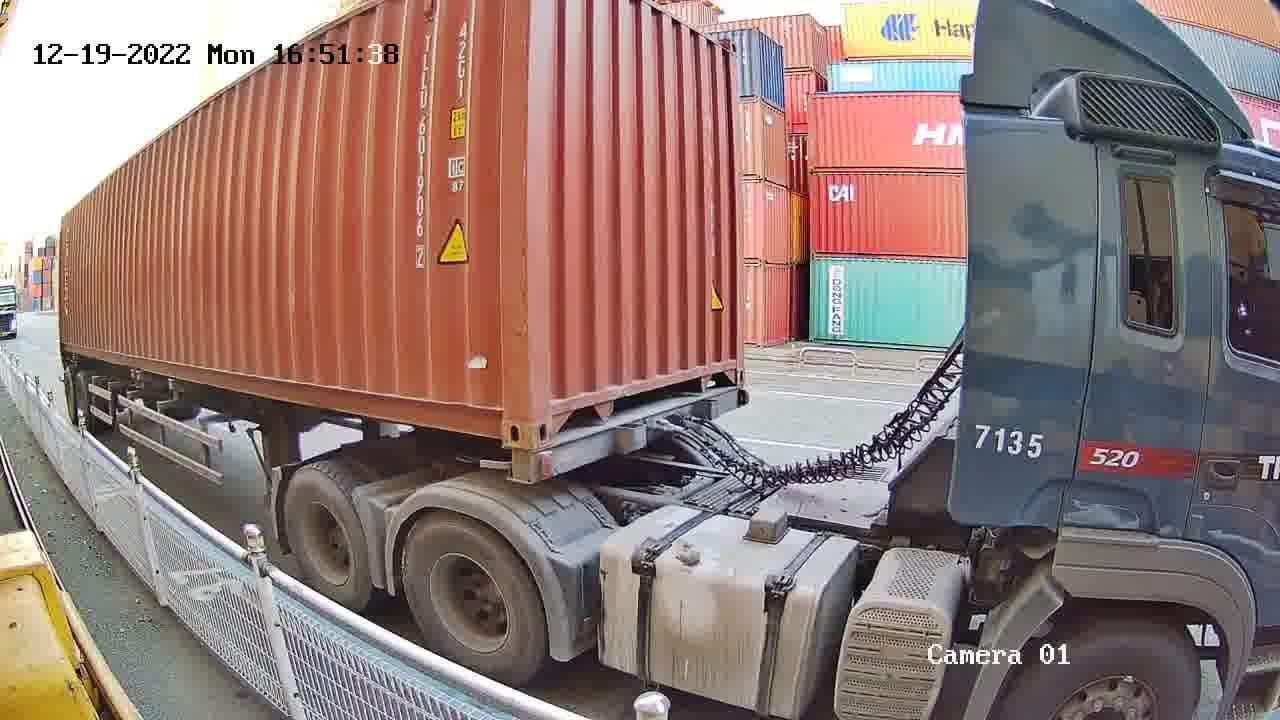Chassis: (510, 388, 749, 479)
Cone: (506, 446, 535, 480)
Hole_L: (530, 373, 585, 449)
Hole_R: (467, 376, 529, 450), (704, 344, 745, 394)
Tire: (404, 513, 544, 681), (283, 469, 370, 608)
